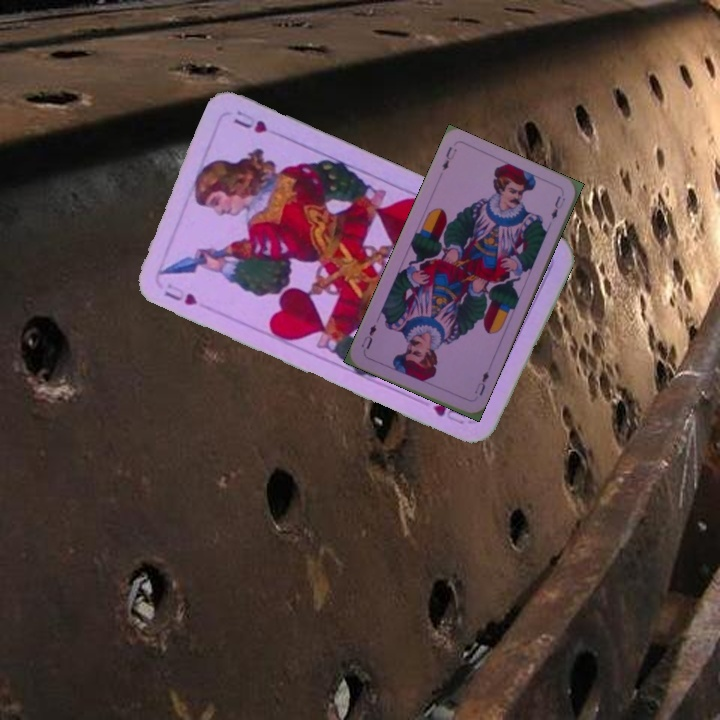EU: (470, 367, 492, 398), (438, 142, 460, 173)
HU: (160, 279, 200, 309)
